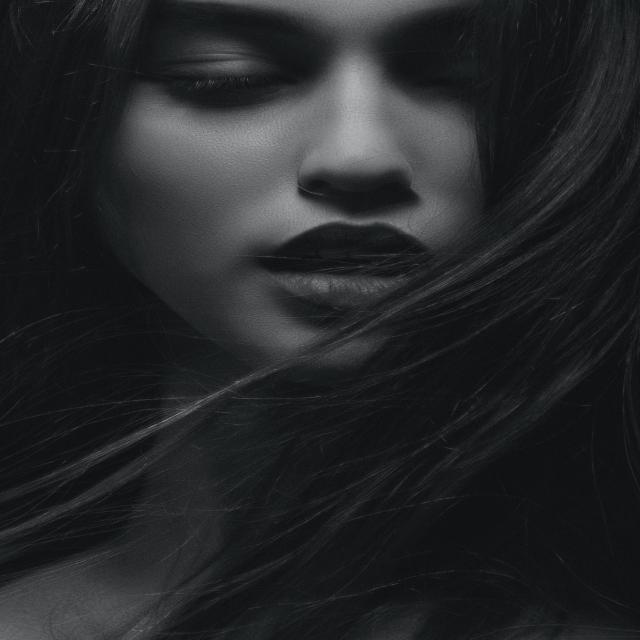person: (0, 0, 639, 638), (32, 0, 640, 640)
